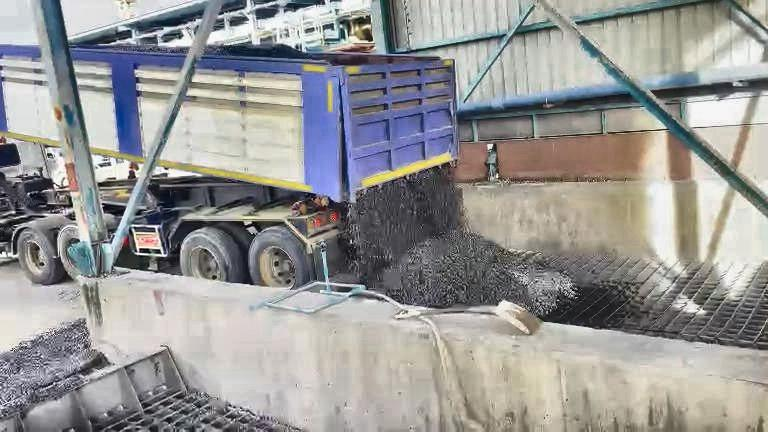gravel: (342, 167, 575, 316), (1, 320, 100, 416), (205, 44, 310, 58), (74, 45, 188, 53)
